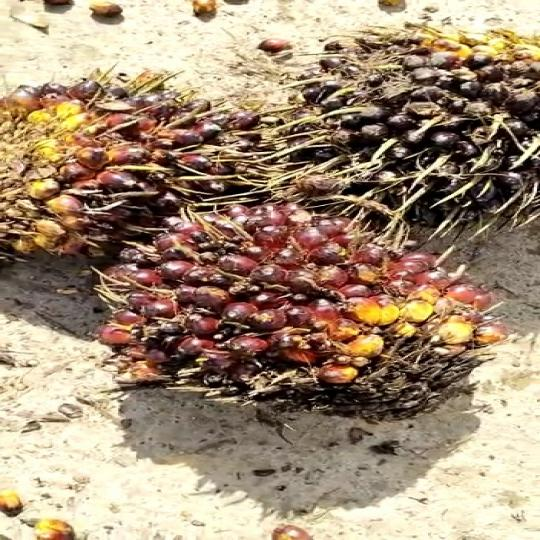kurang masak: (100, 190, 476, 430), (0, 69, 265, 266), (271, 36, 540, 211)
